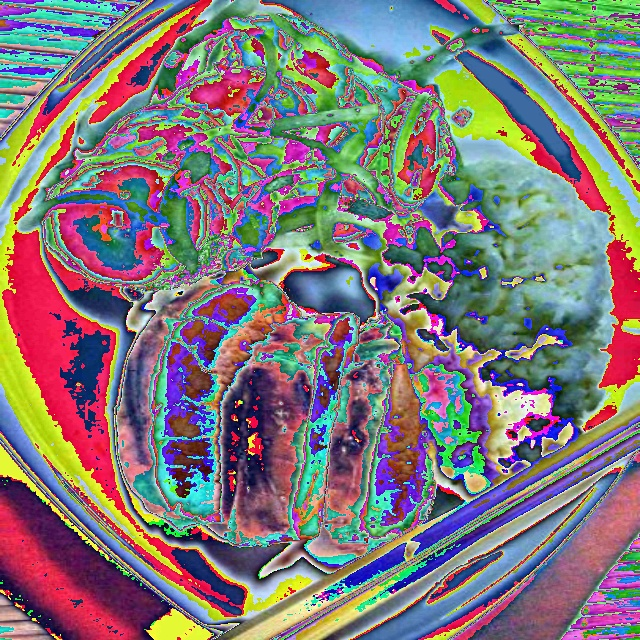background: (18, 9, 616, 553)
